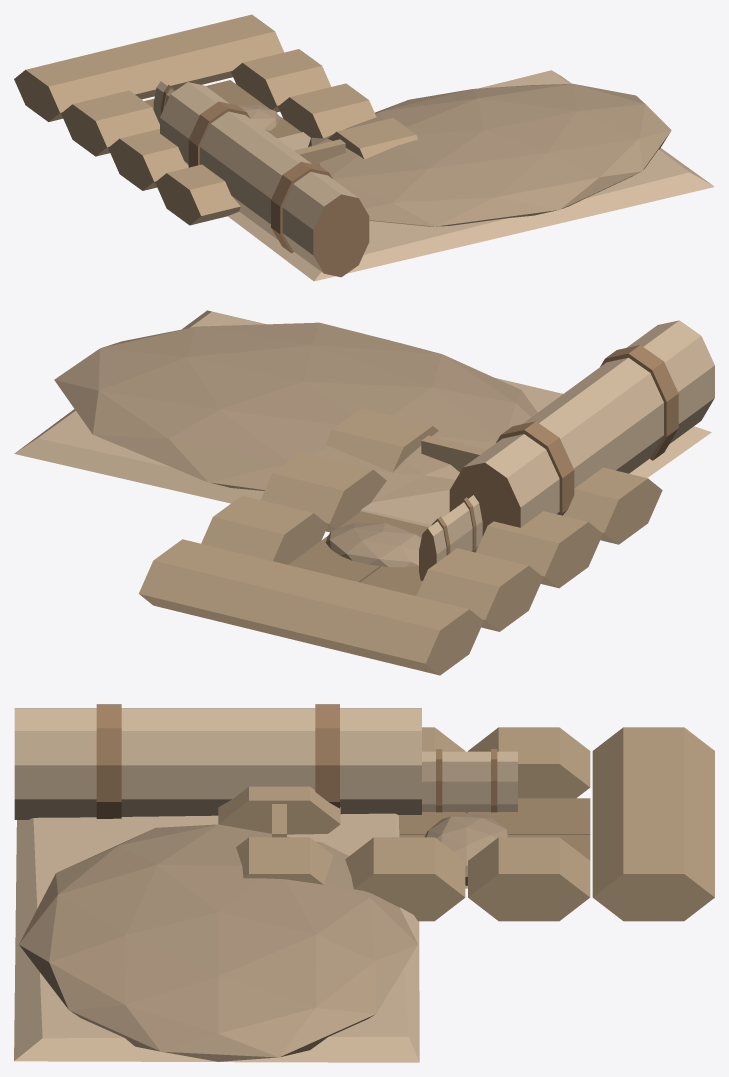
Rendered from building_log_house_foundation.glb.
3 renders of one model, top to bottom at view 1: azimuth 30°, elevation 25°; view 2: azimuth 150°, elevation 25°; view 3: azimuth 270°, elevation 25°, orthographic. The views are drawn at different scales.
Visible parts, largest first — view 1: building_log_house_foundation; view 2: building_log_house_foundation; view 3: building_log_house_foundation.
Part boxes in pixels (<box>): building_log_house_foundation: <box>14,14,714,281</box>; building_log_house_foundation: <box>14,310,714,675</box>; building_log_house_foundation: <box>14,704,714,1062</box>.
Bounding box in the file's own units: 1 × 0.2064 × 1.
